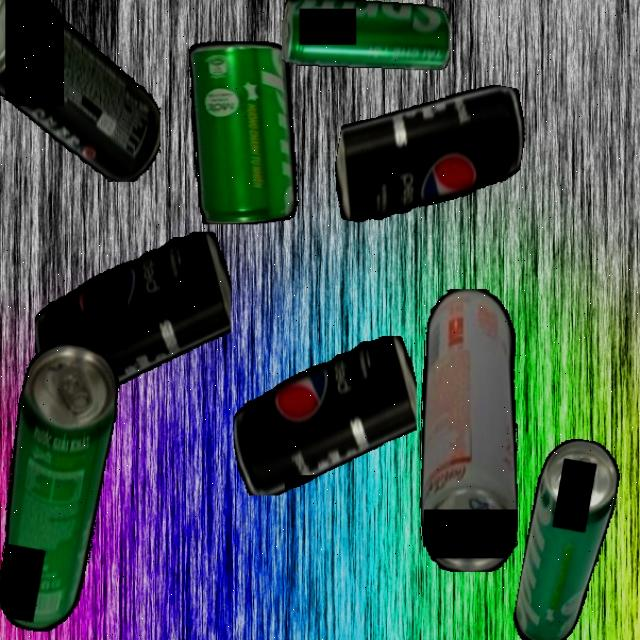debris: (327, 61, 532, 248), (0, 338, 127, 638), (34, 231, 231, 403), (233, 335, 417, 495), (0, 0, 161, 182), (419, 288, 518, 572), (510, 434, 624, 640), (189, 41, 298, 224), (280, 0, 450, 70)
